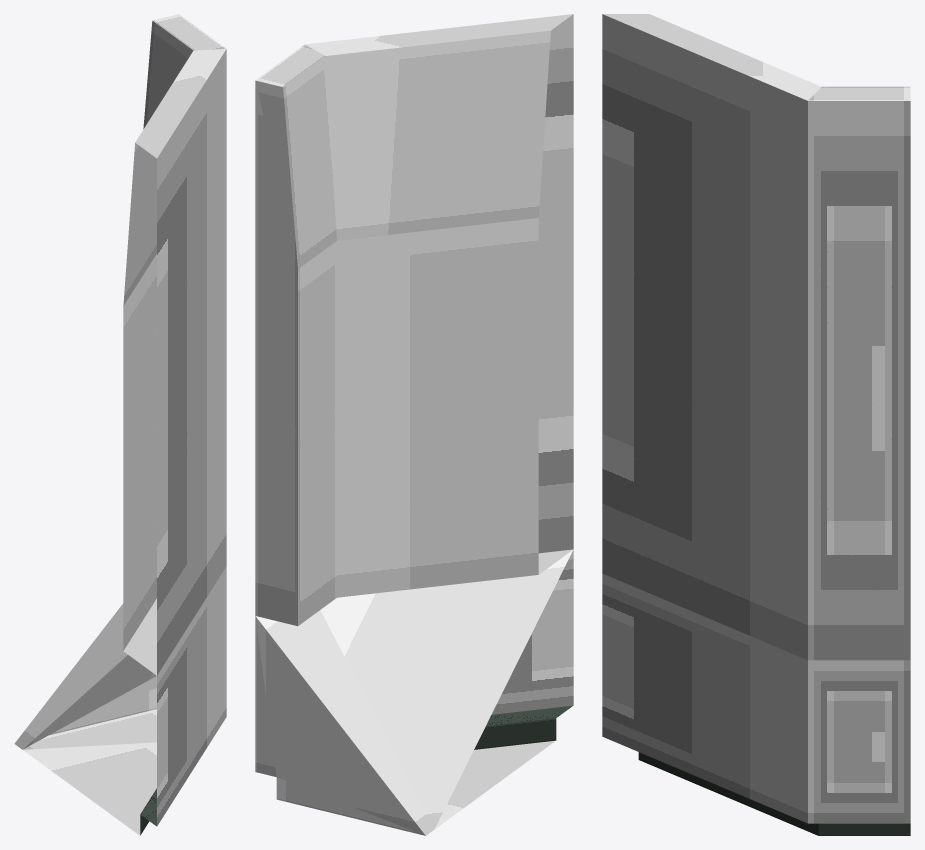
Rendered from run_tall_inside_bend_b_item.obj.
3 renders of one model, left to right at view 1: azimuth 30°, elevation 25°; view 2: azimuth 150°, elevation 25°; view 3: azimuth 270°, elevation 25°, orthographic. The views are drawn at different scales.
Bounding box in the file's own units: 1 × 4 × 1.5.
